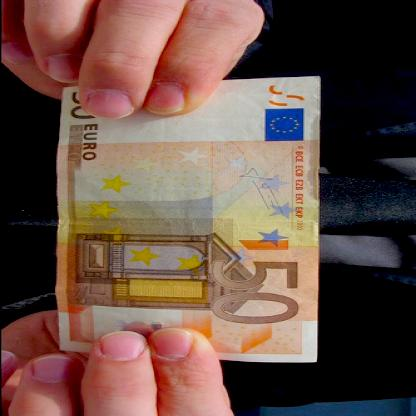euro_banknote: (46, 88, 332, 353)
